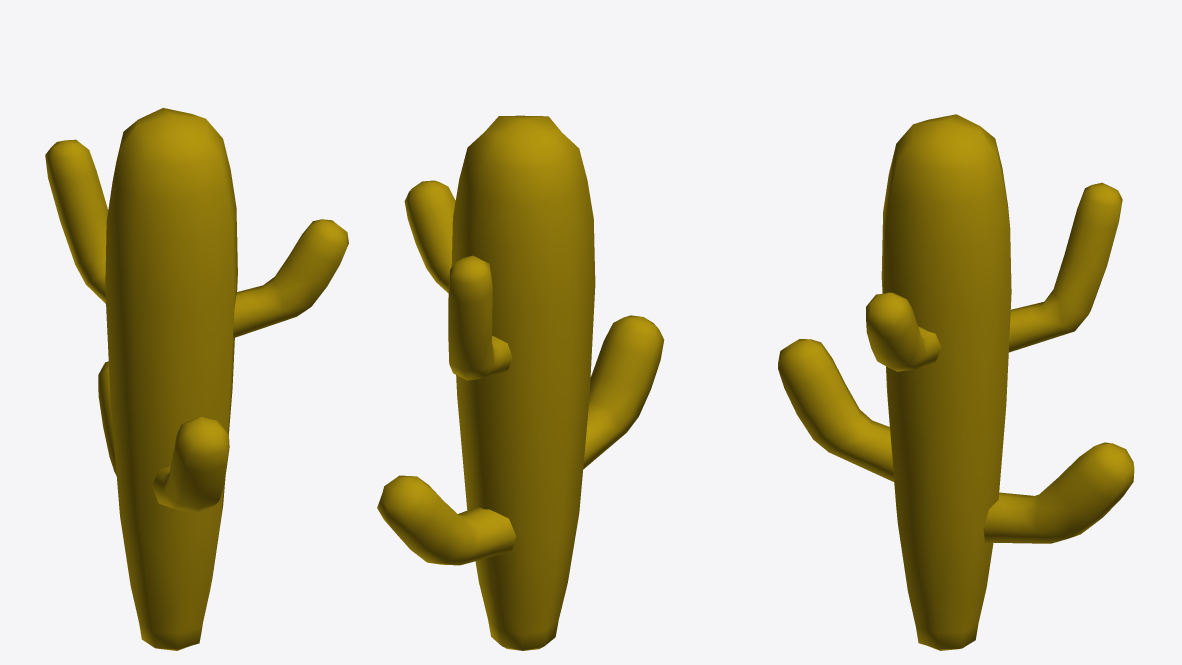
The model's file is Cactus_3.fbx.
3 views of the same model, side by side, from view 1: azimuth 30°, elevation 25°; view 2: azimuth 150°, elevation 25°; view 3: azimuth 270°, elevation 25° (orthographic).
Parts seen in each view (by area): view 1: CactusFlowers_2; view 2: CactusFlowers_2; view 3: CactusFlowers_2.
Part boxes in pixels (x1,y1,x2,y2): CactusFlowers_2: (45, 108, 348, 650); CactusFlowers_2: (377, 115, 664, 650); CactusFlowers_2: (778, 114, 1134, 650).
Size of the model in its own units: 76.54 by 194 by 128.
